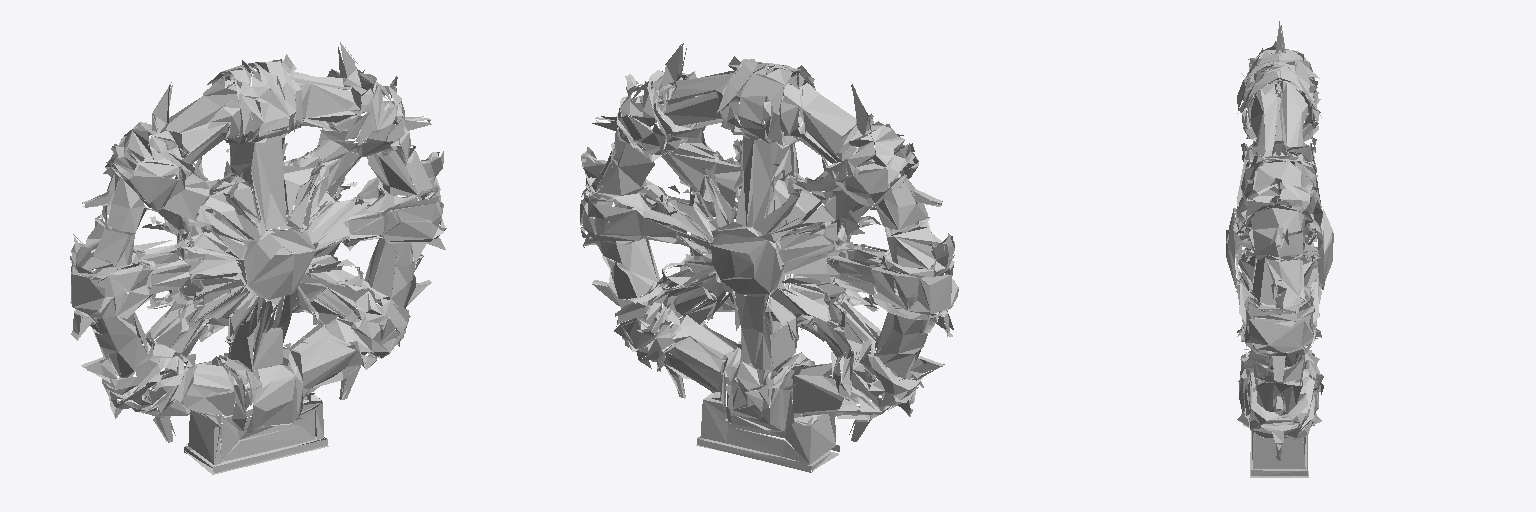
The model's file is hang3d-1.obj.
3 renders of one model, left to right at view 1: azimuth 30°, elevation 25°; view 2: azimuth 150°, elevation 25°; view 3: azimuth 270°, elevation 25°, orthographic.
Visible parts, largest first — view 1: geometry_0; view 2: geometry_0; view 3: geometry_0.
Part boxes in pixels (left/top/right/bottom): geometry_0: left=70, top=42, right=446, bottom=474; geometry_0: left=580, top=43, right=958, bottom=472; geometry_0: left=1226, top=21, right=1333, bottom=477.
Size of the model in its own units: 46.11 by 46.39 by 11.65.